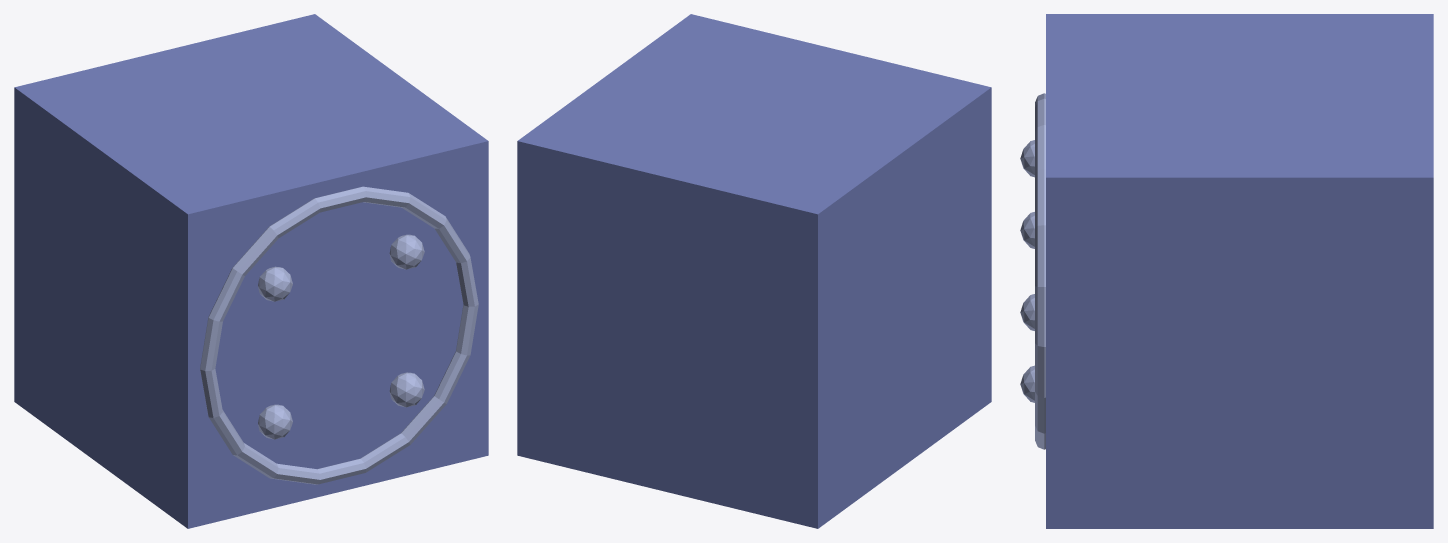
File: dimension.glb
The picture shows the model from 3 angles, left to right: view 1: azimuth 30°, elevation 25°; view 2: azimuth 150°, elevation 25°; view 3: azimuth 270°, elevation 25°; orthographic projection. The views are drawn at different scales.
Parts seen in each view (by area): view 1: world; view 2: world; view 3: world.
Part boxes in pixels (box(x1,y1,x2,y2)): world: box(14, 14, 488, 528); world: box(517, 14, 991, 528); world: box(1020, 14, 1433, 528).
Size of the model in its own units: 1.05 by 1.05 by 1.12.
